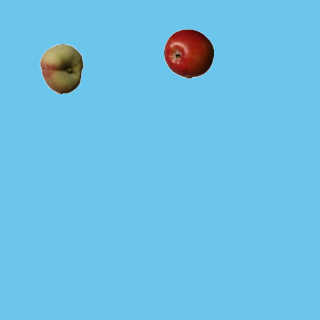Apple Braeburn: (163, 28, 213, 78)
Peach Flat: (36, 43, 86, 93)
